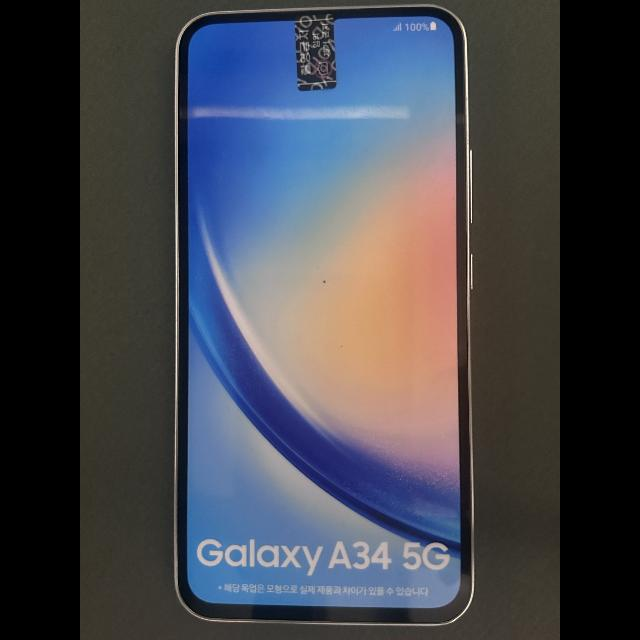phone: (173, 4, 475, 627)
sticker: (294, 13, 337, 92)
